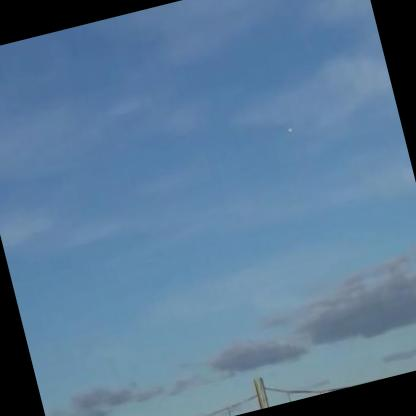plane: (285, 123, 295, 135)
